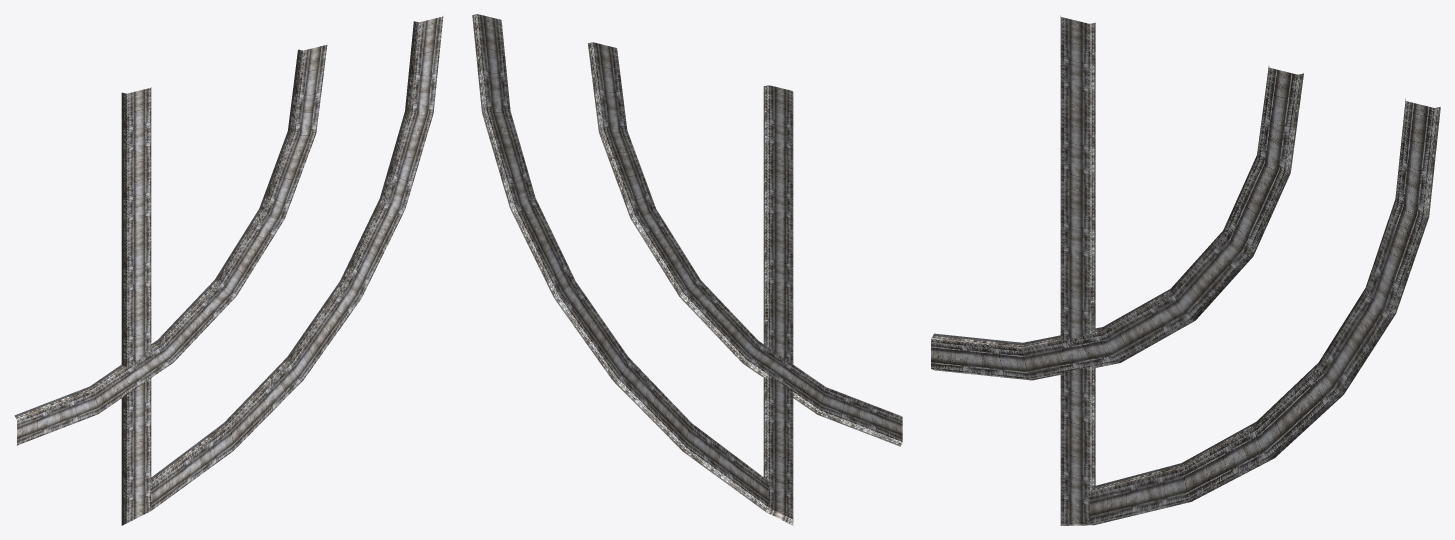
The picture shows the model from 3 angles, left to right: view 1: azimuth 30°, elevation 25°; view 2: azimuth 150°, elevation 25°; view 3: azimuth 330°, elevation 25°; orthographic projection. The views are drawn at different scales.
Visible parts, largest first — view 1: model_Object10; view 2: model_Object10; view 3: model_Object10.
Boxes of the visible parts, x1=… form: model_Object10: x1=14, y1=16, x2=443, y2=525; model_Object10: x1=472, y1=14, x2=902, y2=525; model_Object10: x1=931, y1=15, x2=1440, y2=525.
Size of the model in its own units: 9.4 by 9.07 by 0.0918.
1 material, 1 textured.
